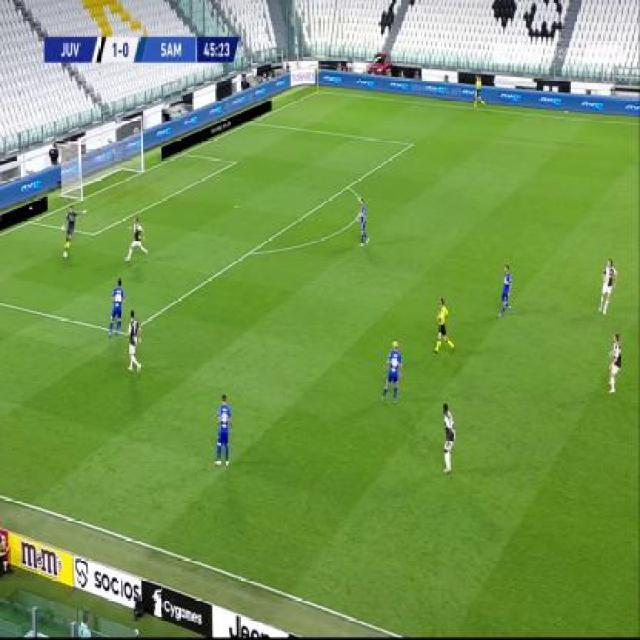ball: (63, 248, 69, 259)
player: (212, 391, 234, 468), (379, 339, 404, 404), (439, 400, 458, 474), (433, 295, 455, 357), (598, 254, 618, 317), (108, 277, 127, 339), (125, 307, 142, 375), (606, 330, 623, 395), (126, 215, 149, 263), (63, 201, 80, 257), (497, 261, 513, 318), (356, 194, 369, 248), (471, 75, 484, 109)
